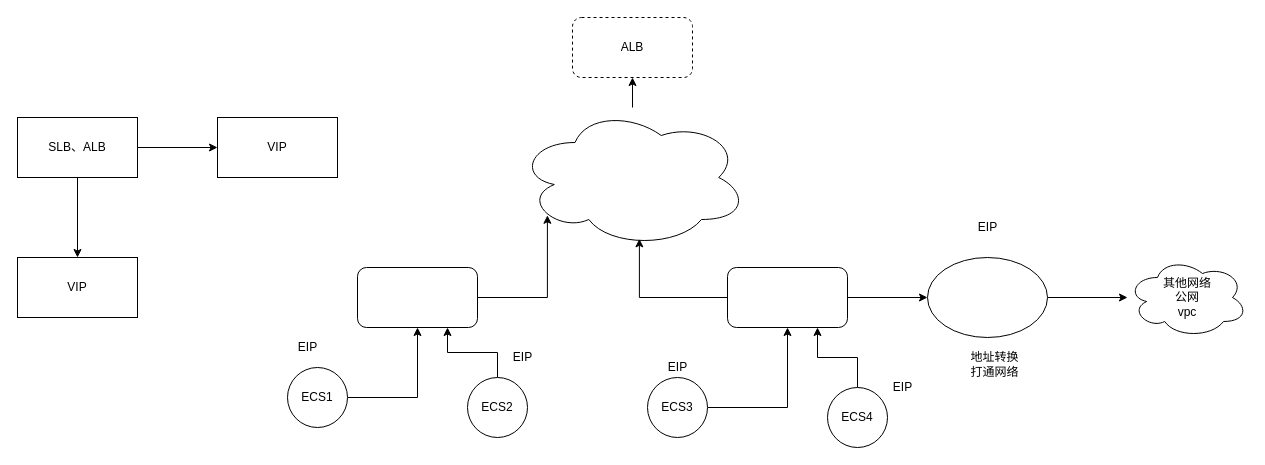
Image size: 1265x465. Some labels were removed from this diagram. The shapes that lost their labels are listed below. From the top down, each one's centre as x and y in pixels, then its label:
the point at 632,177: VPC1 192.168.0.0/16
the point at 417,297: 交换机SW1 192.168.1.0/24 可用区A
the point at 787,297: 交换机SW2 192.168.2.0/24 可用区B
the point at 987,297: nat网关
